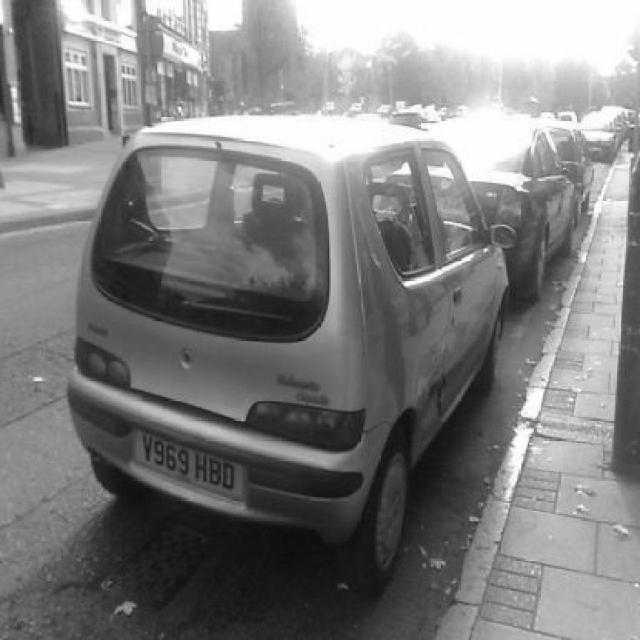car: (48, 102, 509, 596), (444, 102, 584, 286)
license-plate: (132, 426, 251, 508)
